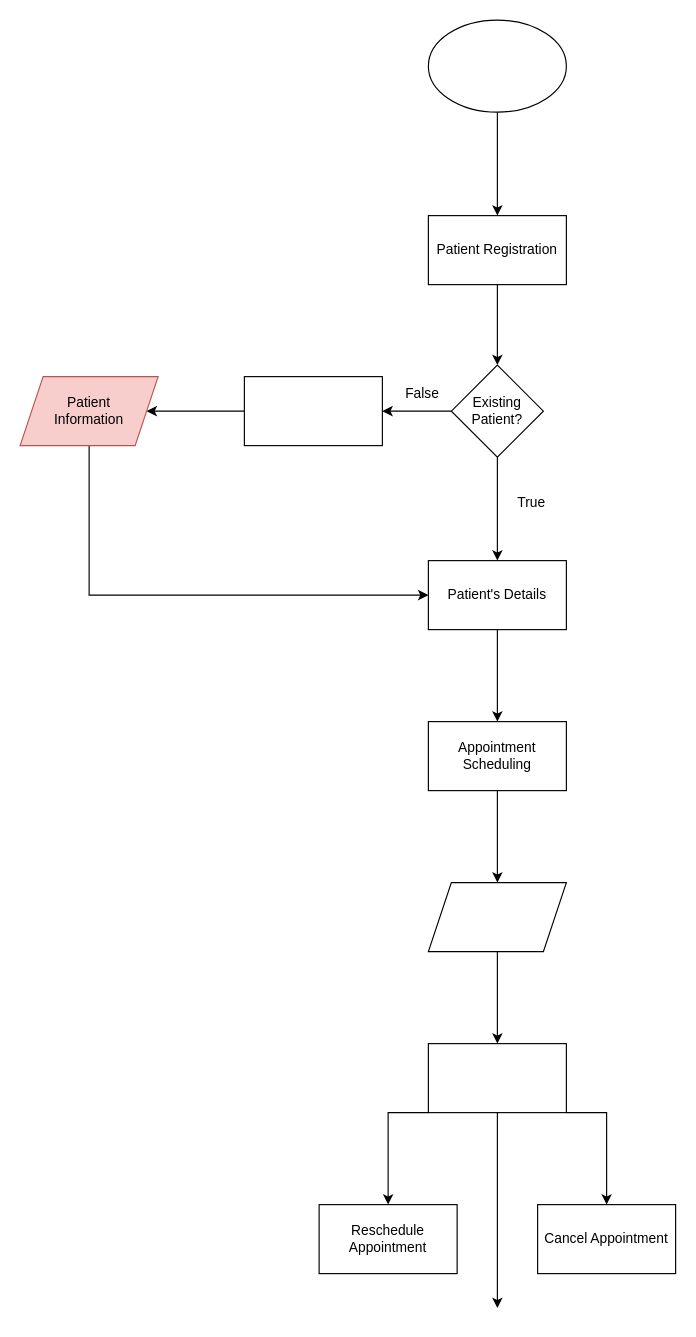
Some shapes in this 696 by 1337 pixel diagram are drawn without their labels. Here are the shapes that lost their labels. From the top down, the box of each, then its label:
(427, 19, 566, 112): Start
(243, 375, 382, 446): New Patient Registration
(427, 881, 566, 952): Select Date and Time
(427, 1042, 566, 1113): Confirm Appointment
